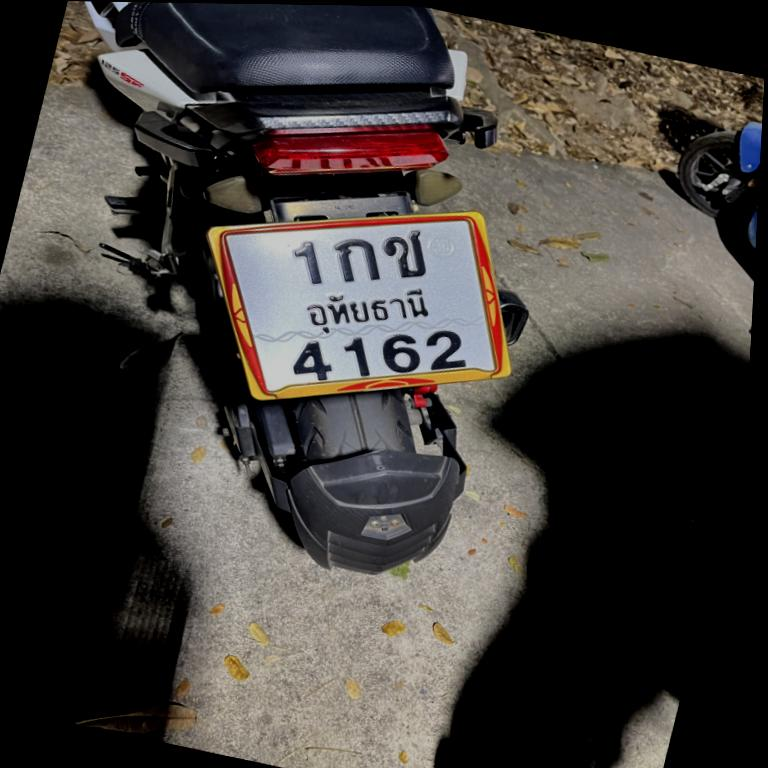license plate: (167, 161, 537, 446)
